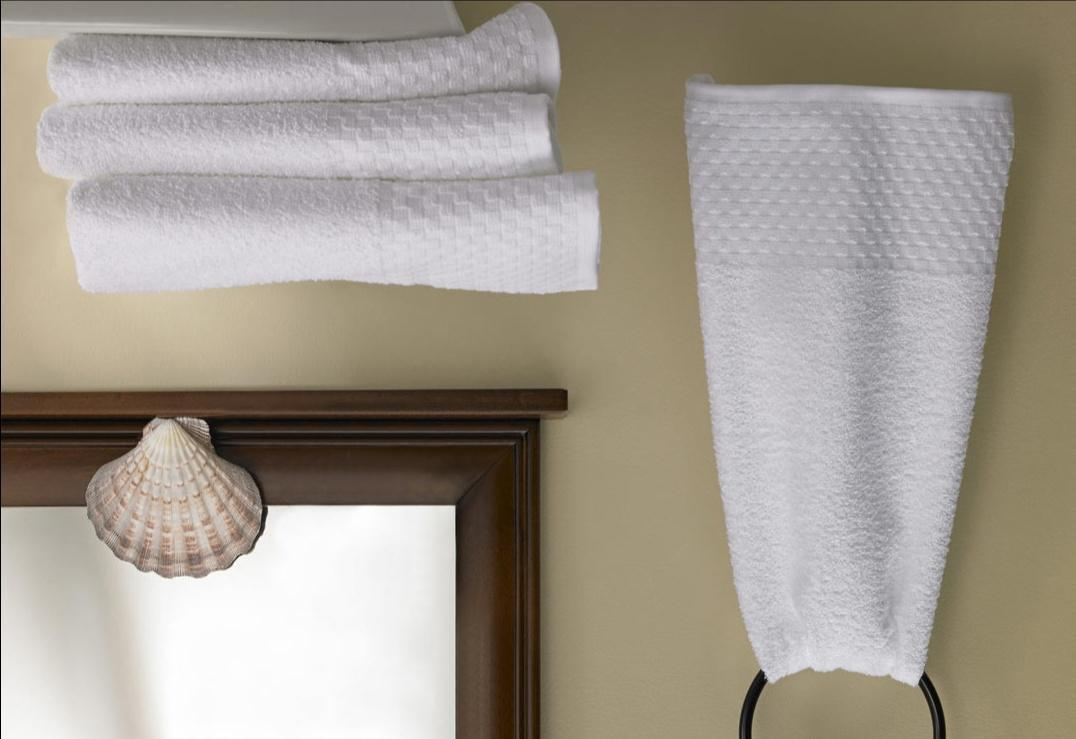towel: (677, 72, 992, 698)
